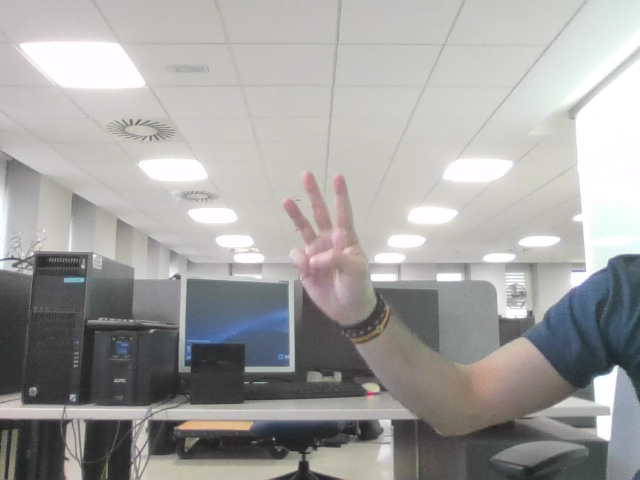3Dedos: (293, 184, 356, 285)
